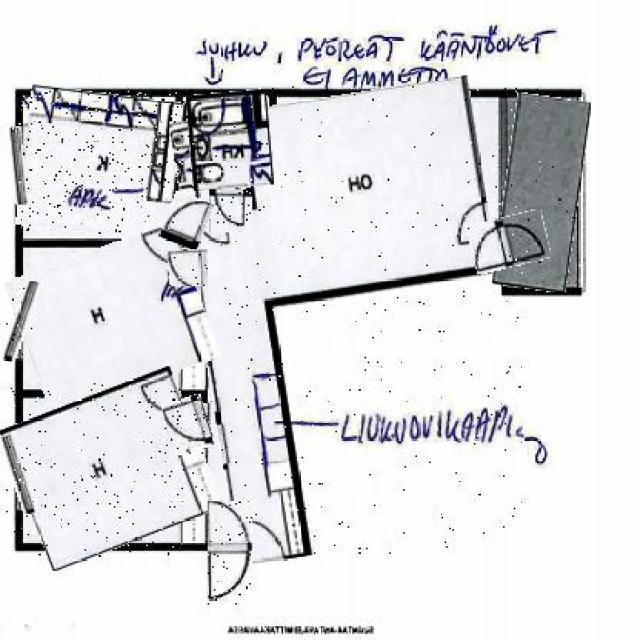door: (469, 212, 548, 271), (208, 500, 252, 605), (162, 194, 210, 248), (166, 397, 212, 452), (210, 190, 252, 232), (169, 251, 208, 286)
window: (6, 432, 34, 514), (6, 280, 32, 363), (11, 126, 26, 205)
zone: (186, 86, 522, 557), (11, 381, 214, 557), (14, 234, 211, 403), (20, 91, 208, 240), (498, 95, 584, 291), (190, 91, 272, 189)
